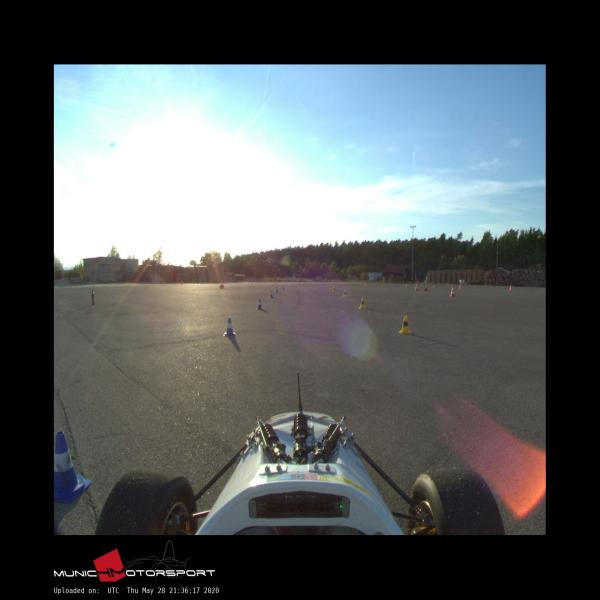blue_cone: (54, 432, 92, 508), (224, 318, 236, 336), (257, 299, 263, 309), (270, 291, 274, 298), (275, 287, 278, 293), (282, 285, 285, 289)
large_orange_cone: (450, 286, 455, 296), (415, 283, 419, 291)
yellow_cone: (399, 316, 411, 334), (360, 298, 366, 308), (343, 290, 347, 298), (332, 286, 336, 292), (330, 286, 332, 290)
